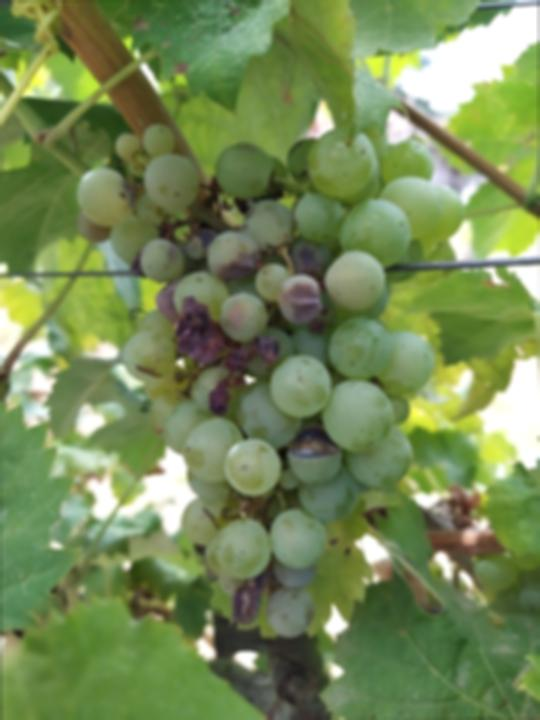grape: (72, 122, 467, 640)
